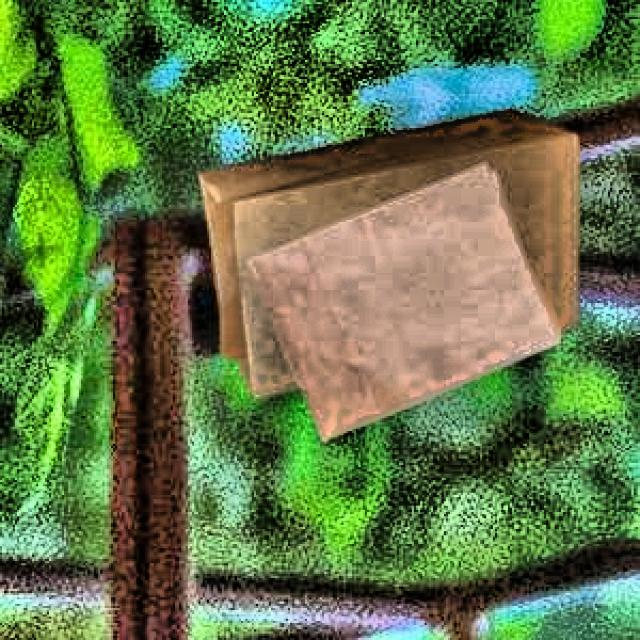Paper-bag: (190, 107, 594, 367), (239, 164, 570, 451)
